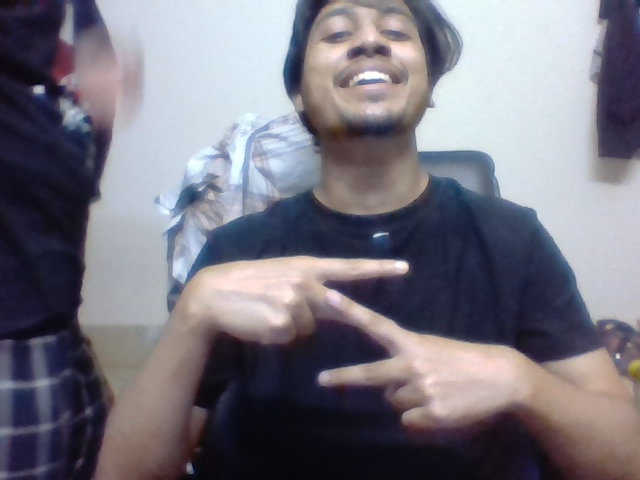Z: (316, 252, 415, 390)
